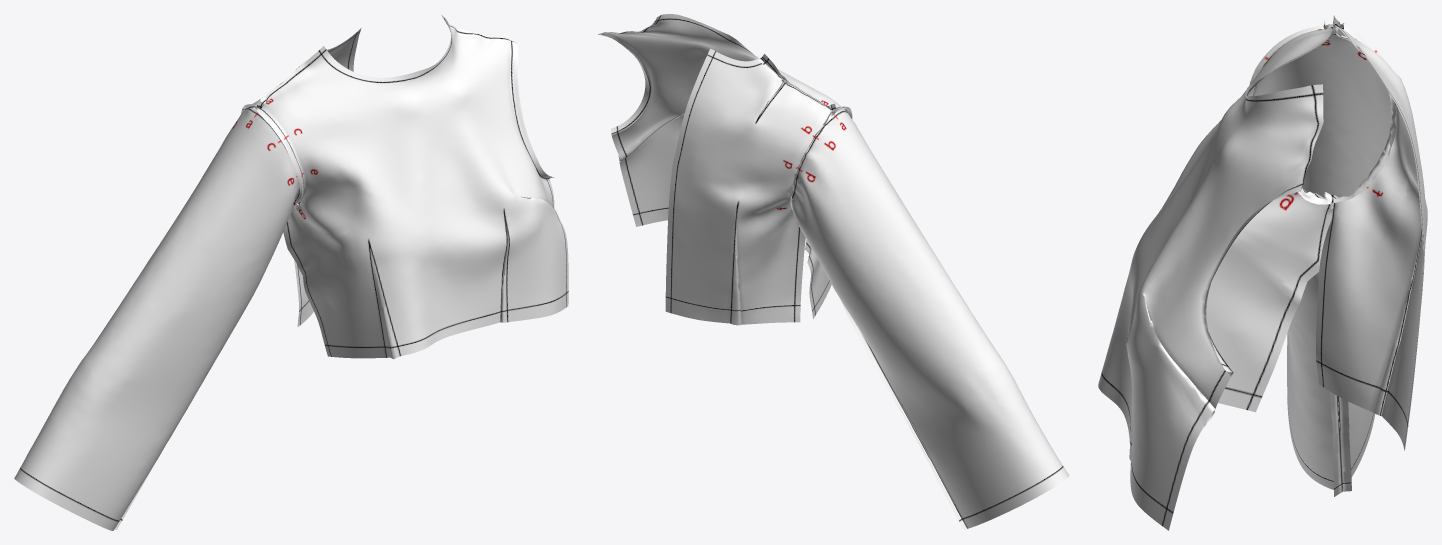
Rendered from setp4_08.fbx.
3 views of the same model, side by side, from view 1: azimuth 30°, elevation 25°; view 2: azimuth 150°, elevation 25°; view 3: azimuth 270°, elevation 25° (orthographic). The views are drawn at different scales.
Visible parts, largest first — view 1: fenghexiu_09:Pattern2D_128431, fenghexiu_09:Pattern2D_219457, fenghexiu_09:Pattern2D_24583; view 2: fenghexiu_09:Pattern2D_219457, fenghexiu_09:Pattern2D_24583, fenghexiu_09:Pattern2D_128431; view 3: fenghexiu_09:Pattern2D_128431, fenghexiu_09:Pattern2D_24583, fenghexiu_09:Pattern2D_219457.
Part boxes in pixels (x1=…): fenghexiu_09:Pattern2D_128431: x1=255, y1=14, x2=568, y2=359; fenghexiu_09:Pattern2D_219457: x1=14, y1=106, x2=301, y2=530; fenghexiu_09:Pattern2D_24583: x1=241, y1=28, x2=361, y2=326; fenghexiu_09:Pattern2D_219457: x1=789, y1=107, x2=1069, y2=530; fenghexiu_09:Pattern2D_24583: x1=665, y1=48, x2=836, y2=325; fenghexiu_09:Pattern2D_128431: x1=598, y1=14, x2=851, y2=318; fenghexiu_09:Pattern2D_128431: x1=1098, y1=15, x2=1339, y2=530; fenghexiu_09:Pattern2D_24583: x1=1316, y1=19, x2=1427, y2=450; fenghexiu_09:Pattern2D_219457: x1=1254, y1=33, x2=1395, y2=496.
Bounding box in the file's own units: 66.96 × 56.39 × 26.32.
